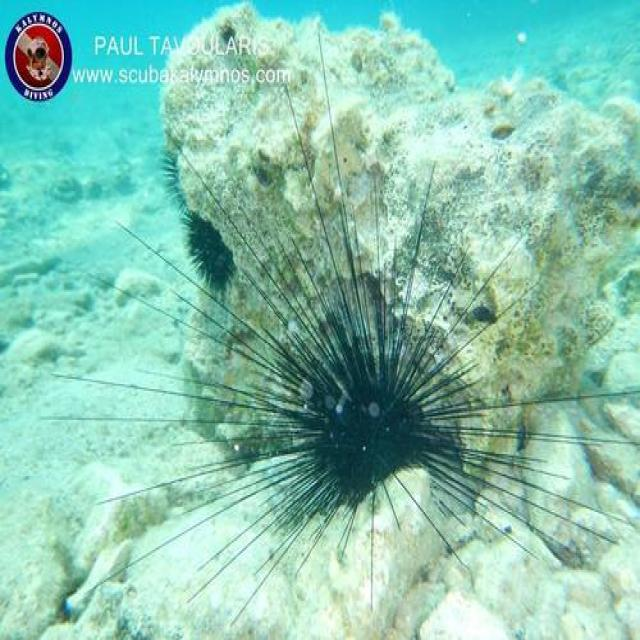Urchin: (37, 27, 634, 606)
